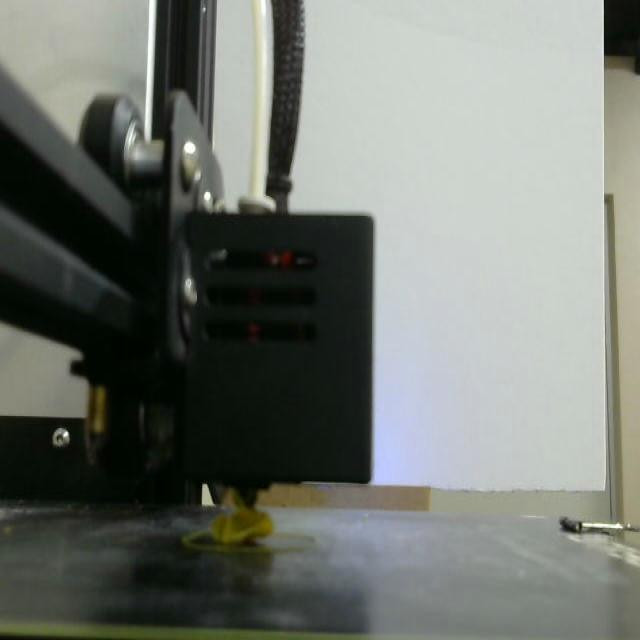spaghetti: (211, 493, 274, 545)
